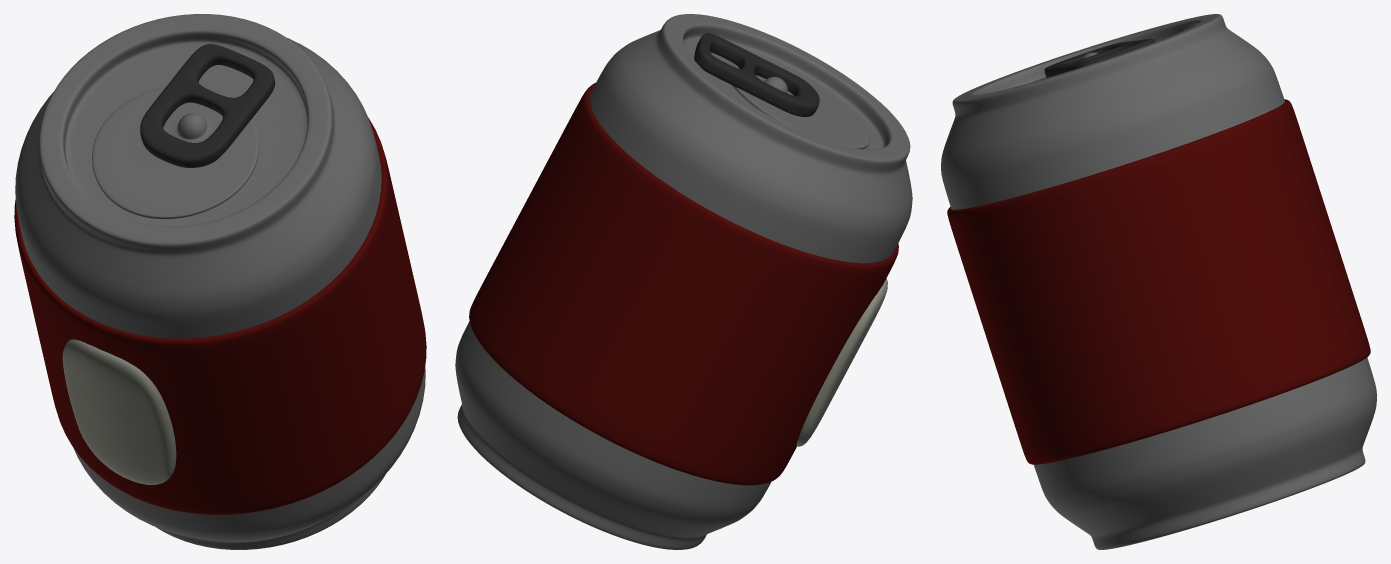
File: Soda Drink.obj
3 renders of one model, left to right at view 1: azimuth 30°, elevation 25°; view 2: azimuth 150°, elevation 25°; view 3: azimuth 270°, elevation 25°, orthographic. The views are drawn at different scales.
Visible parts, largest first — view 1: Soda_Drink.001_Cylinder, Soda_Drink.002_Cylinder.001, Soda_Drink_Cube.035, Soda_Drink.003_Cylinder.002, Soda_Drink.004_Plane.019; view 2: Soda_Drink.002_Cylinder.001, Soda_Drink.001_Cylinder, Soda_Drink.004_Plane.019, Soda_Drink_Cube.035, Soda_Drink.003_Cylinder.002; view 3: Soda_Drink.002_Cylinder.001, Soda_Drink.001_Cylinder, Soda_Drink.004_Plane.019.
Part boxes in pixels (x1=…): Soda_Drink.001_Cylinder: x1=15, y1=14, x2=425, y2=549; Soda_Drink.002_Cylinder.001: x1=14, y1=118, x2=426, y2=514; Soda_Drink_Cube.035: x1=92, y1=86, x2=259, y2=218; Soda_Drink.003_Cylinder.002: x1=62, y1=339, x2=176, y2=484; Soda_Drink.004_Plane.019: x1=140, y1=44, x2=275, y2=167; Soda_Drink.002_Cylinder.001: x1=469, y1=83, x2=898, y2=485; Soda_Drink.001_Cylinder: x1=455, y1=14, x2=912, y2=549; Soda_Drink.004_Plane.019: x1=694, y1=33, x2=819, y2=116; Soda_Drink_Cube.035: x1=732, y1=64, x2=870, y2=149; Soda_Drink.003_Cylinder.002: x1=796, y1=278, x2=887, y2=446; Soda_Drink.002_Cylinder.001: x1=947, y1=99, x2=1370, y2=464; Soda_Drink.001_Cylinder: x1=941, y1=14, x2=1376, y2=549; Soda_Drink.004_Plane.019: x1=1044, y1=38, x2=1155, y2=77.
Size of the model in its own units: 4.3 by 5.3 by 4.22.
